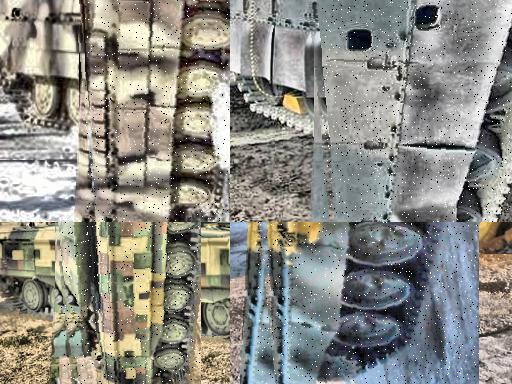tanks: (325, 1, 512, 223), (87, 1, 231, 223), (265, 223, 439, 384), (63, 223, 202, 384)
